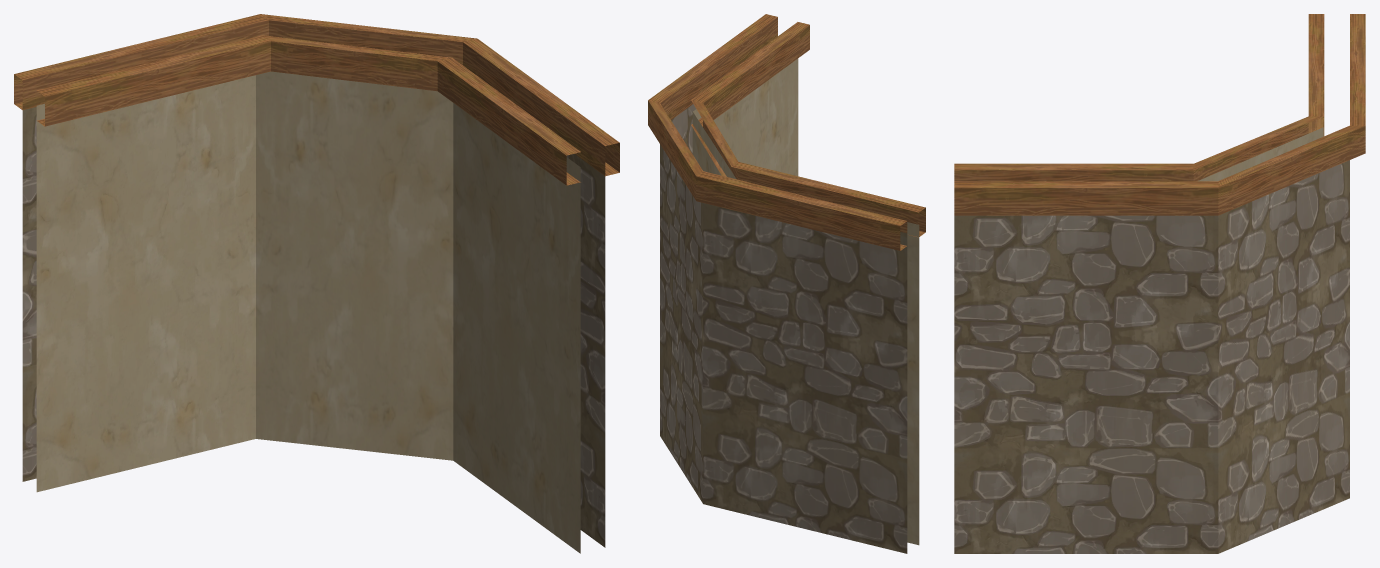
The model's file is Overhang_UnevenBrick_Corner_Front.glb.
3 renders of one model, left to right at view 1: azimuth 30°, elevation 25°; view 2: azimuth 150°, elevation 25°; view 3: azimuth 270°, elevation 25°, orthographic. The views are drawn at different scales.
Visible parts, largest first — view 1: Overhang_UnevenBrick_Corner_Front; view 2: Overhang_UnevenBrick_Corner_Front; view 3: Overhang_UnevenBrick_Corner_Front.
Boxes of the visible parts, x1,y1,x2,y2 form: Overhang_UnevenBrick_Corner_Front: [14, 14, 619, 553]; Overhang_UnevenBrick_Corner_Front: [648, 14, 925, 553]; Overhang_UnevenBrick_Corner_Front: [954, 14, 1365, 553].
Bounding box in the file's own units: 3.12 × 3.12 × 3.12.
3 materials, 3 textured.
